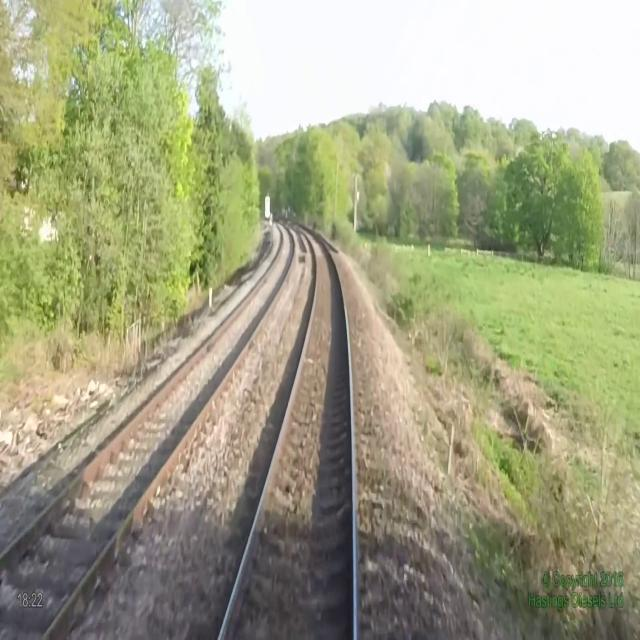rail-track: (0, 220, 294, 639), (224, 225, 352, 639)
